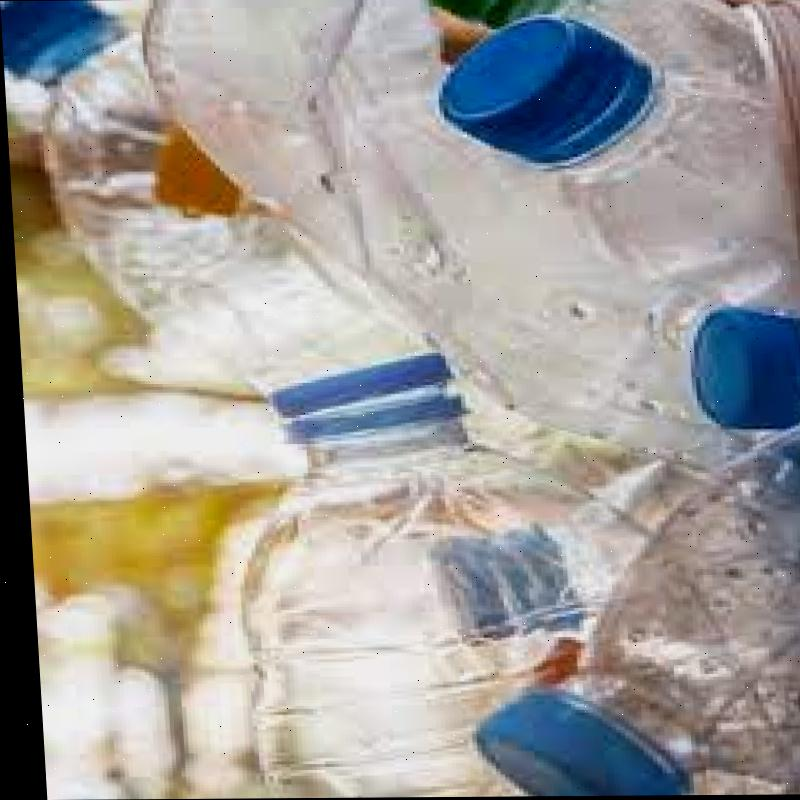botella: (206, 352, 658, 799), (0, 0, 399, 396), (444, 426, 800, 798), (412, 0, 800, 306)
